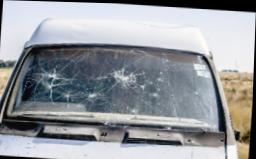Windshield: (20, 39, 227, 129)
